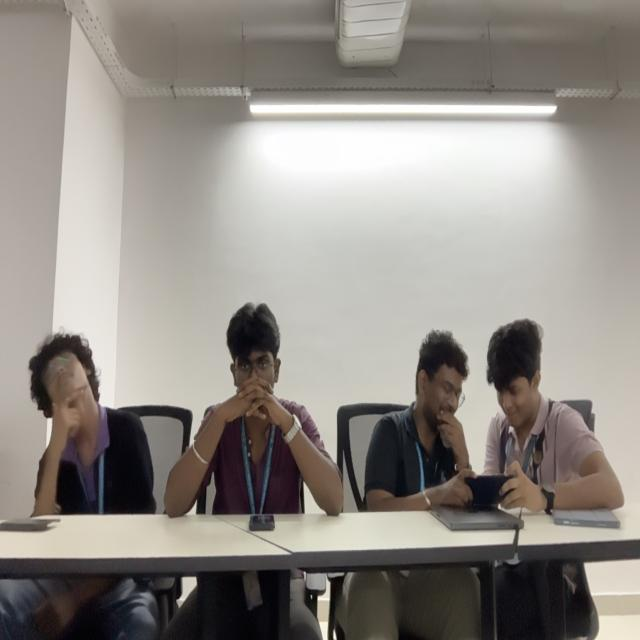Isolated: (163, 303, 345, 519)
socializing: (363, 318, 626, 510)
